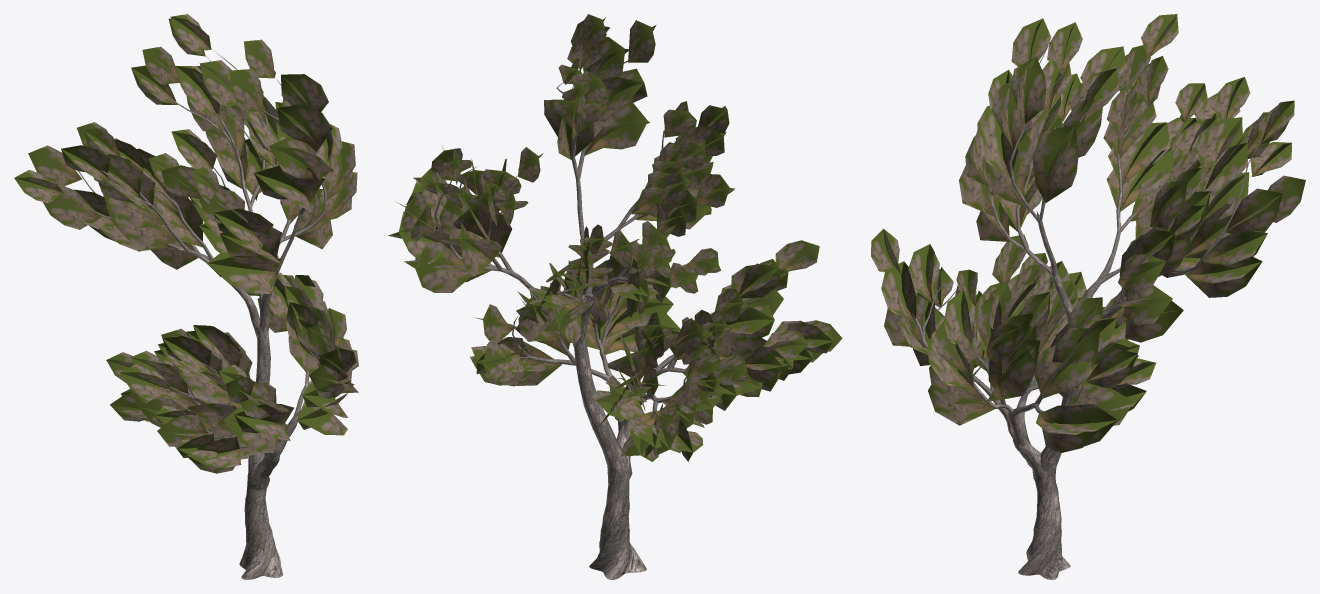
The model's file is DriedTree.fbx.
3 views of the same model, side by side, from view 1: azimuth 30°, elevation 25°; view 2: azimuth 150°, elevation 25°; view 3: azimuth 270°, elevation 25° (orthographic). The views are drawn at different scales.
Visible parts, largest first — view 1: branch06_1, bark07_0; view 2: branch06_1, bark07_0; view 3: branch06_1, bark07_0.
Boxes of the visible parts, box(x1,y1,x2,y2) form: branch06_1: box(14, 14, 358, 473); bark07_0: box(63, 49, 326, 579); branch06_1: box(388, 14, 842, 461); bark07_0: box(433, 49, 740, 579); branch06_1: box(871, 14, 1305, 452); bark07_0: box(911, 46, 1259, 579).
Size of the model in its own units: 462 by 727 by 525.
2 materials, 2 textured.
